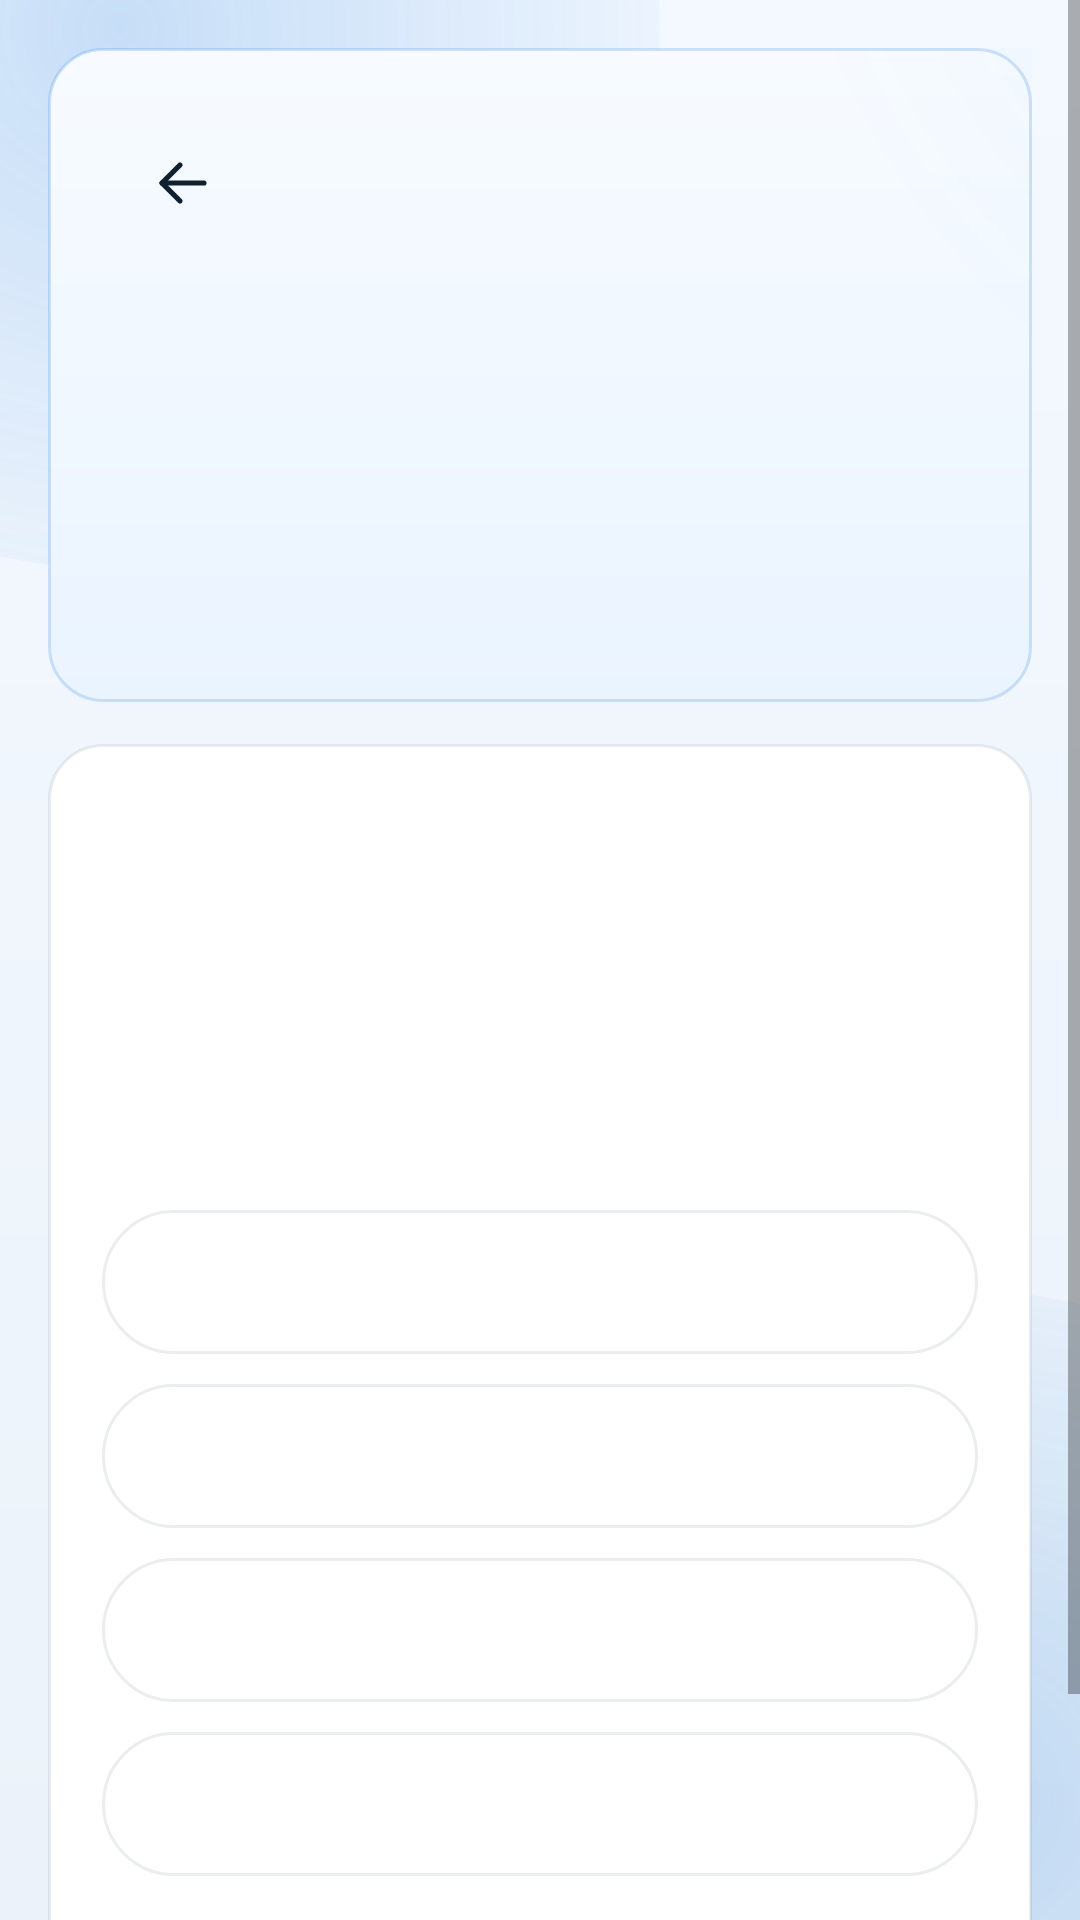

Screen size 1080px×1920px. Icon name, then its center in pixels as (x=x, y=y):
Back: (x=183, y=183)
